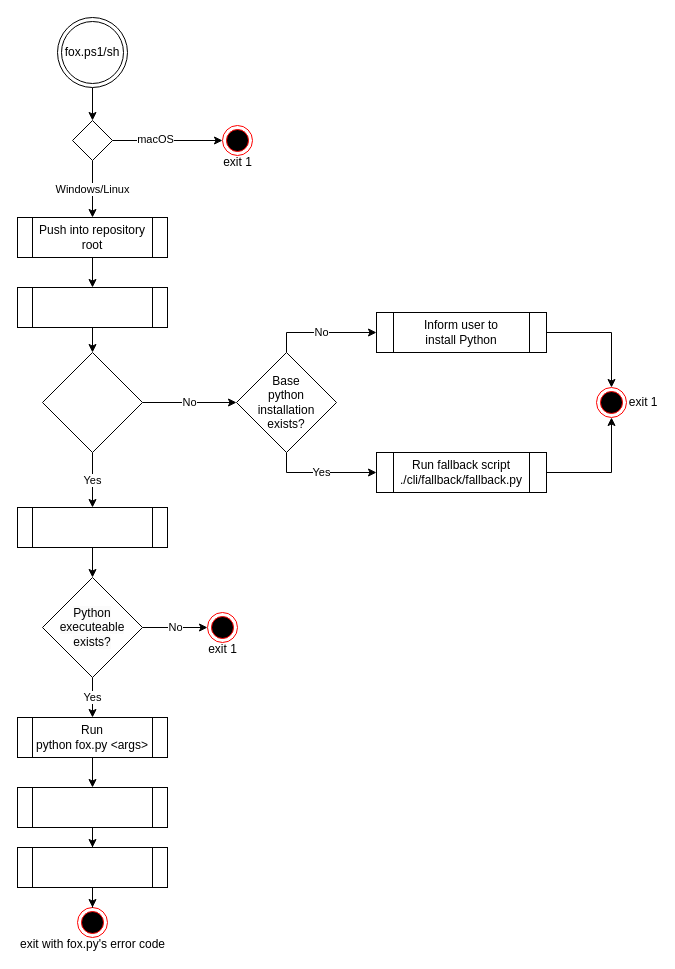
Some shapes in this 675 by 969 pixel diagram are drawn without their labels. Each missing label, with the box of its shape:
Activate environment: (16, 506, 168, 548)
Calculate Installation Prefix: (16, 286, 168, 328)
Deactivate environment: (16, 786, 168, 828)
OS?: (72, 120, 112, 160)
Pop directory: (16, 846, 168, 888)
Python env activate script exists?: (42, 352, 142, 452)
